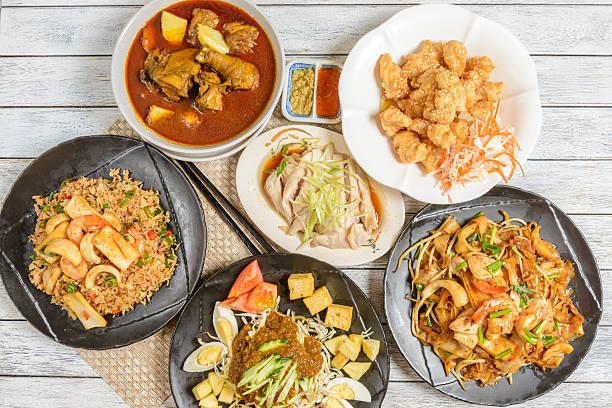Braised Crucian Carp: (382, 186, 598, 403), (2, 135, 204, 349), (339, 3, 540, 207), (168, 251, 384, 406), (111, 0, 282, 161), (233, 124, 399, 267)
